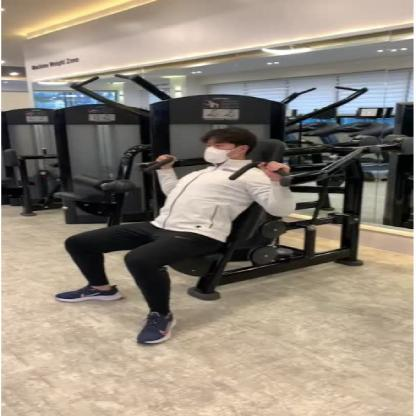shoulder press machine: (29, 66, 405, 366)
